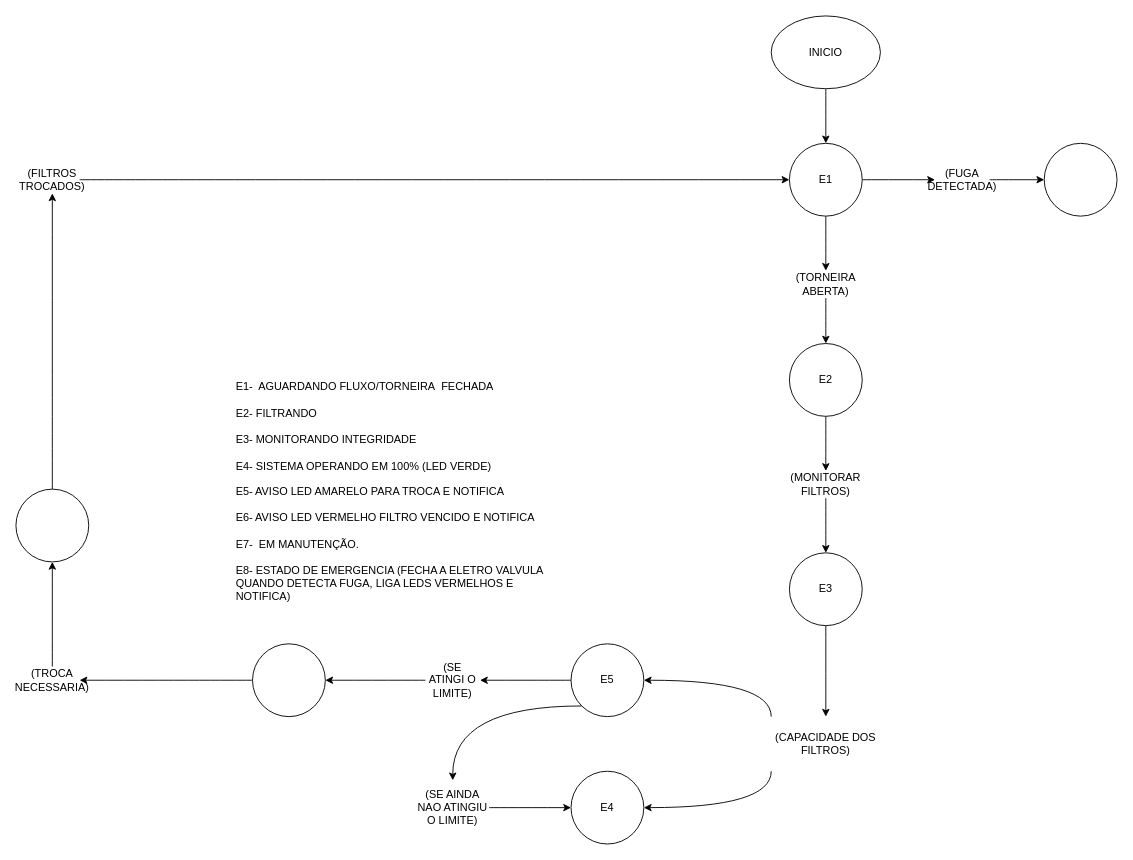
Some shapes in this 1133 by 860 pixel diagram are drawn without their labels. Each missing label, with the box of its shape:
E6: (252, 643, 325, 717)
E7: (15, 488, 89, 562)
E8: (1043, 142, 1117, 216)
